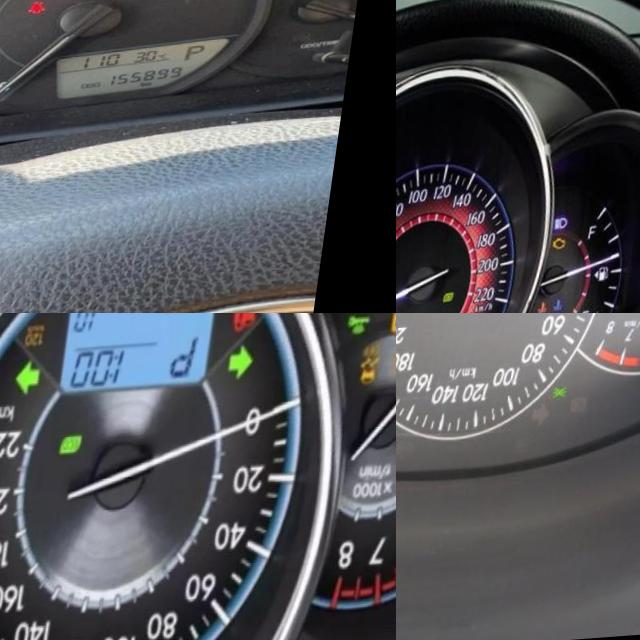High Engine Coolant Temperature: (549, 307, 561, 313)
Seat Belt: (37, 5, 55, 19)
